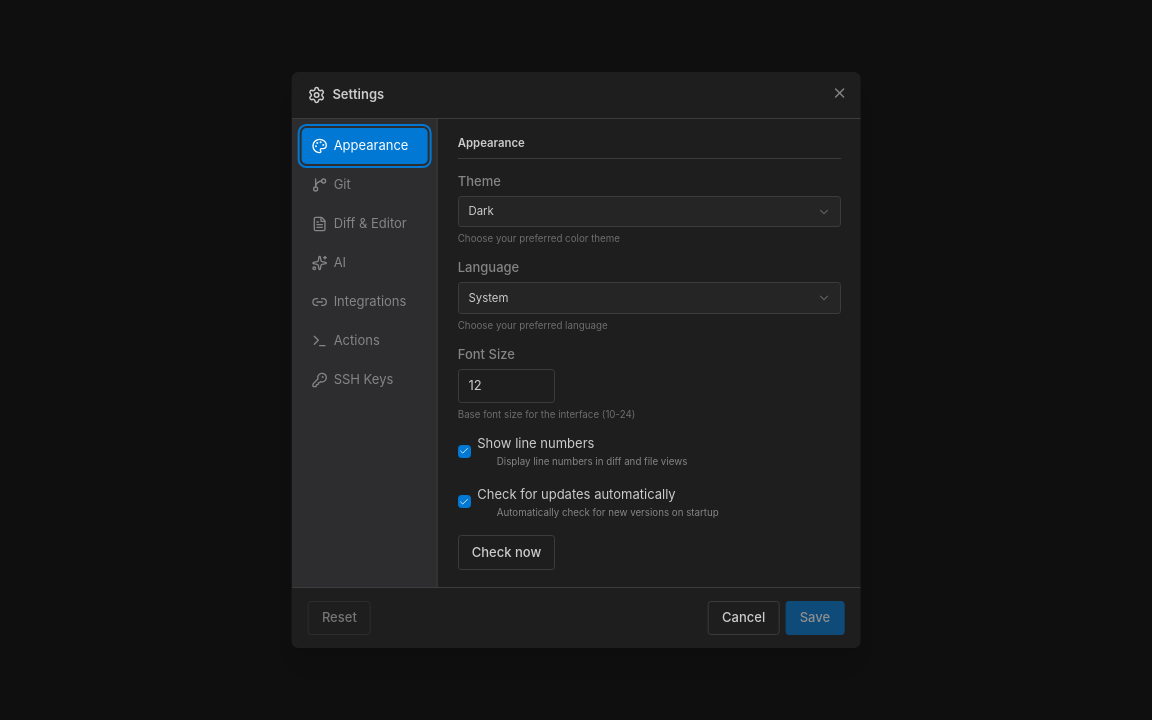
Test case: SettingsDialog › should reset changes when reset is clicked
Note: Change it
Click the dropdown named "Theme" at (481, 211), box [457, 196, 841, 227]
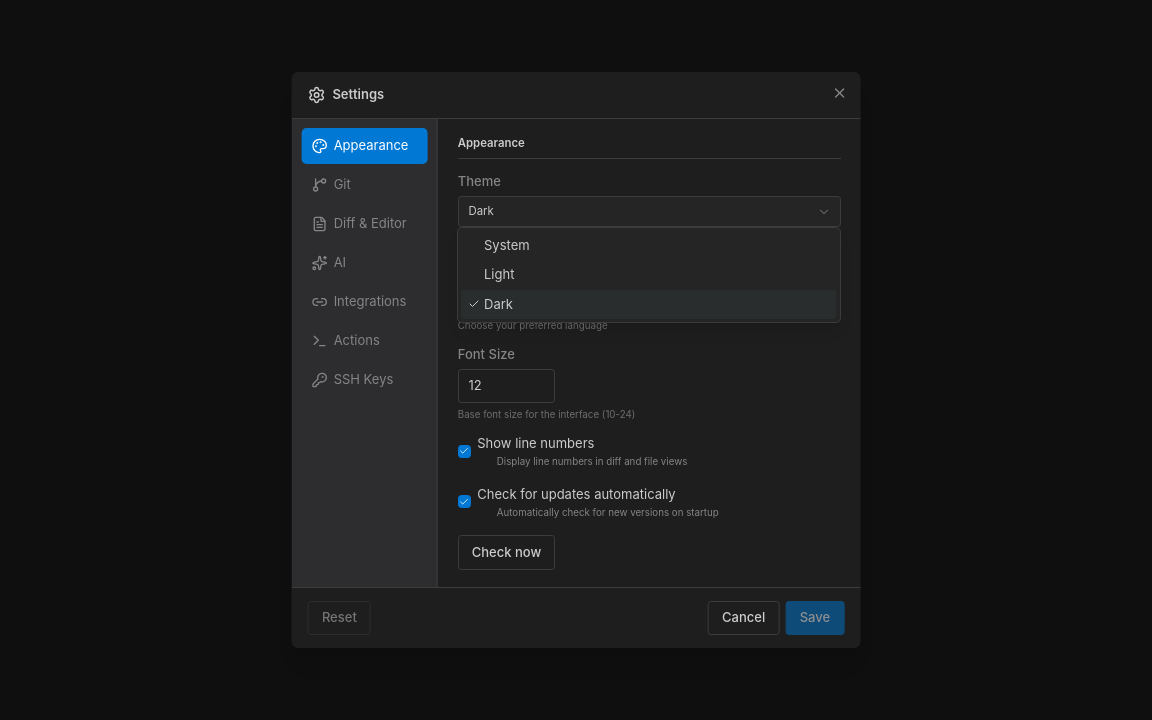
Click the option "Light" at (499, 274), box [484, 266, 514, 282]
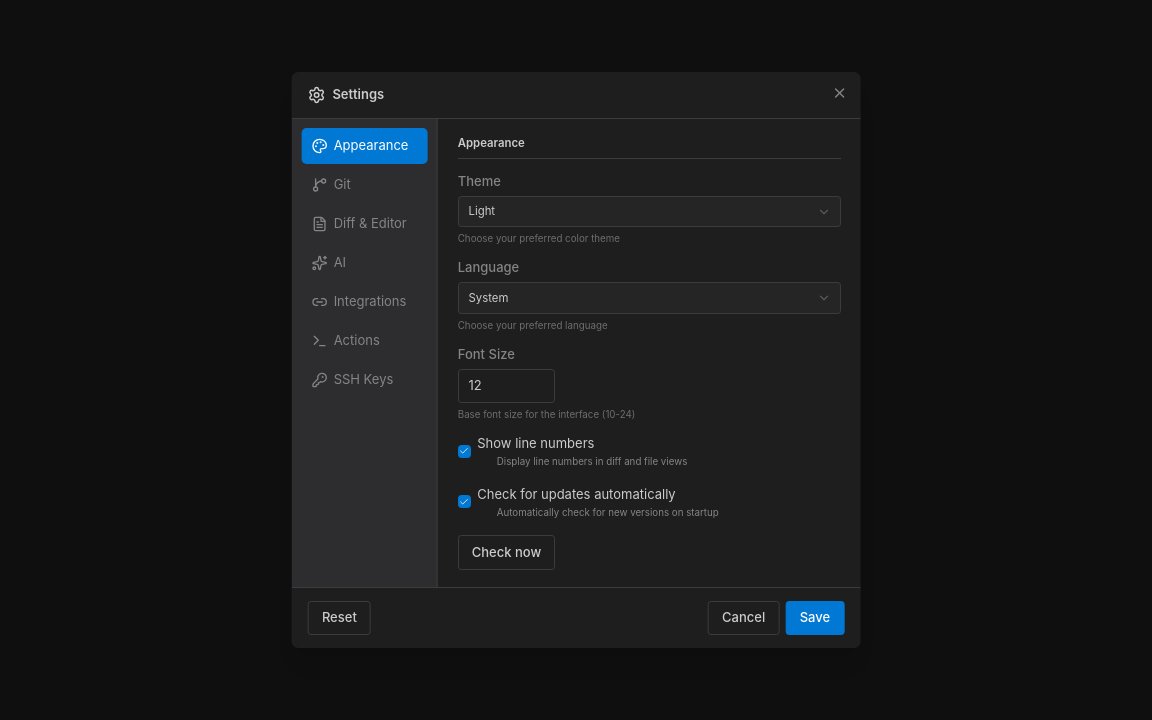
Expected: the dropdown named "Theme" reads "Light", [457, 196, 841, 227]
Note: Click reset
Click the button "Reset" at (339, 618), box [308, 600, 371, 635]
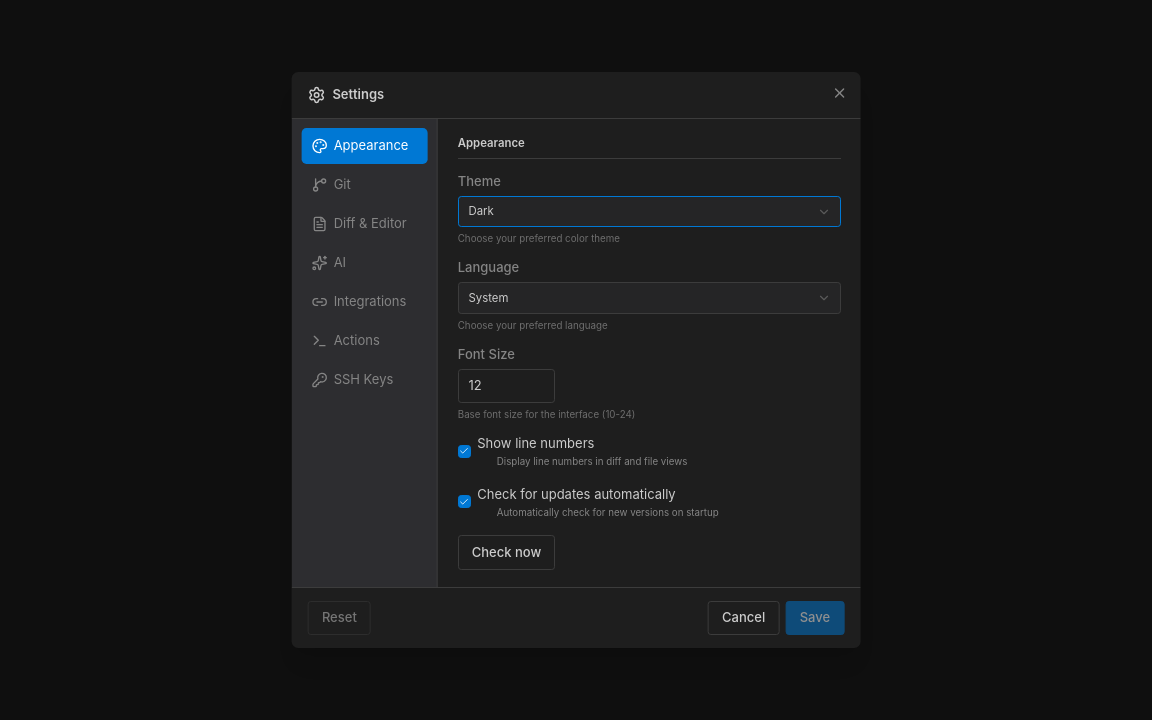
Expected: the dropdown named "Theme" reads "Dark", [457, 196, 841, 227]
